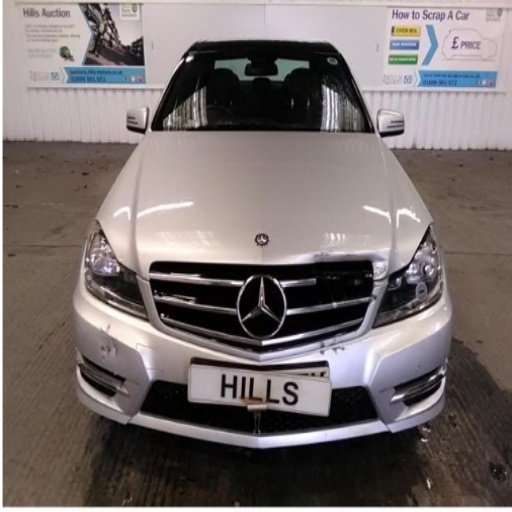dent: (290, 249, 390, 265), (99, 328, 119, 362), (370, 255, 393, 281), (368, 292, 377, 306)
scratch: (109, 335, 118, 359), (100, 343, 112, 358), (135, 342, 157, 350), (314, 251, 331, 259), (146, 367, 163, 374), (374, 281, 387, 288), (344, 253, 358, 257), (99, 326, 105, 334), (106, 324, 111, 331), (101, 355, 106, 362)
